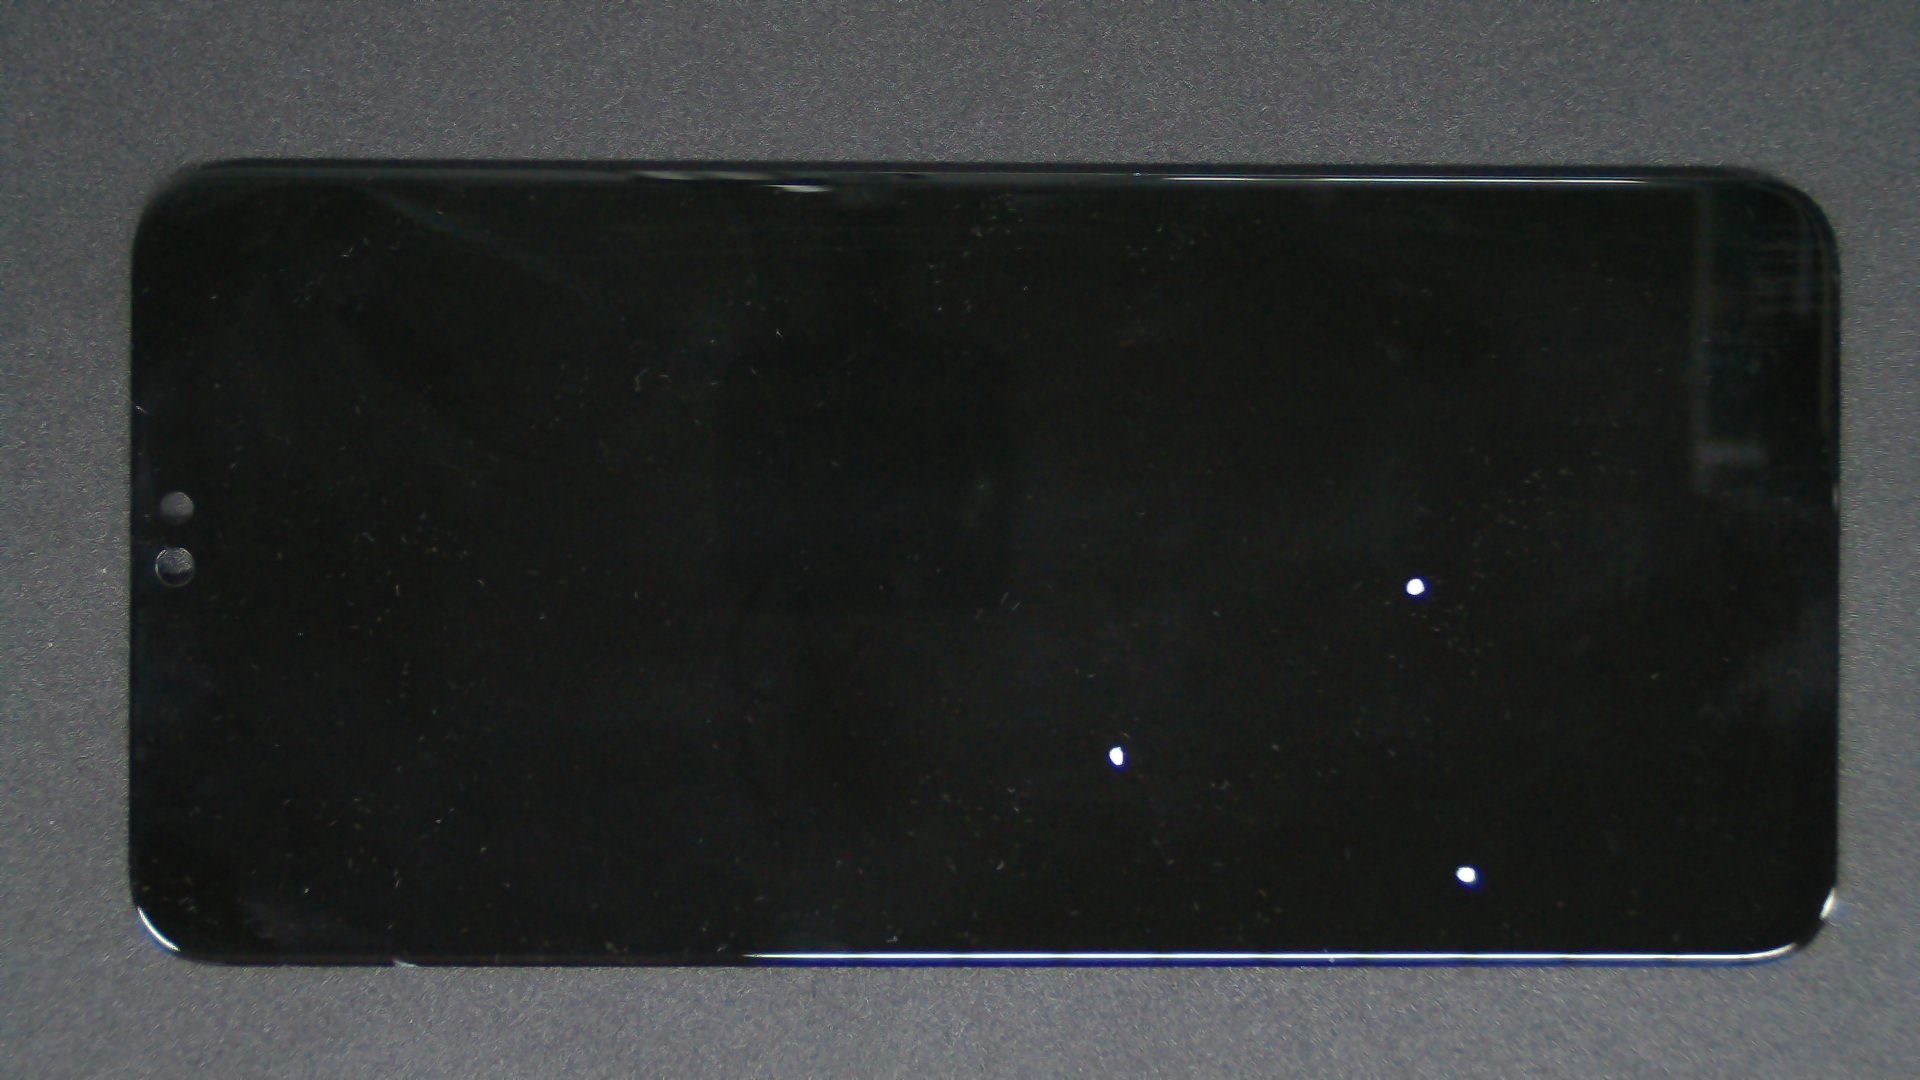oil: (558, 372, 1669, 1080), (728, 433, 1920, 1080), (708, 287, 1920, 862)
